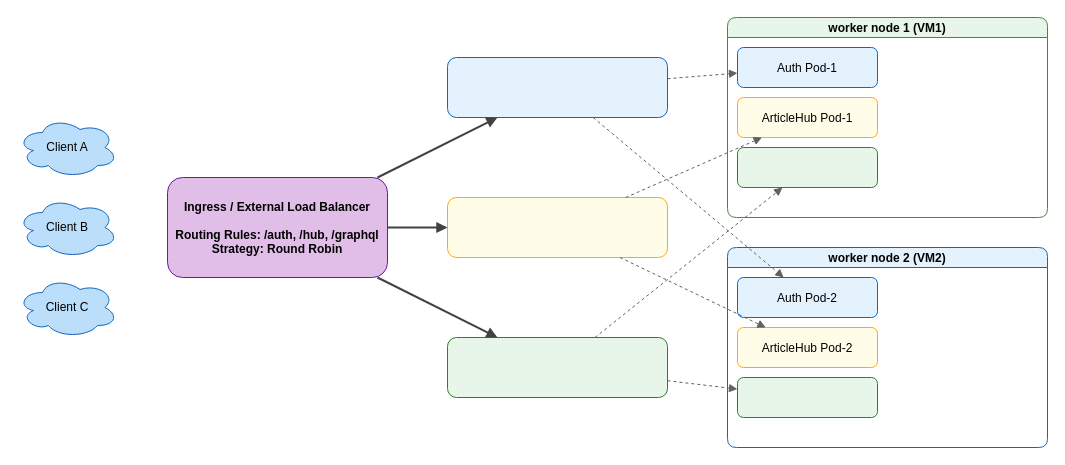
The diagram is 1065 pixels wide and 465 high, and some of its shapes have lost their labels. Here are the shapes that lost their labels. From the top down, the centre of each, then its label:
At pixel 557 87: "Auth Service (ClusterIP)".
At pixel 807 167: "Hasura Pod-1".
At pixel 557 227: "ArticleHub Service (ClusterIP)".
At pixel 557 367: "Hasura Service (ClusterIP)".
At pixel 807 397: "Hasura Pod-2".
